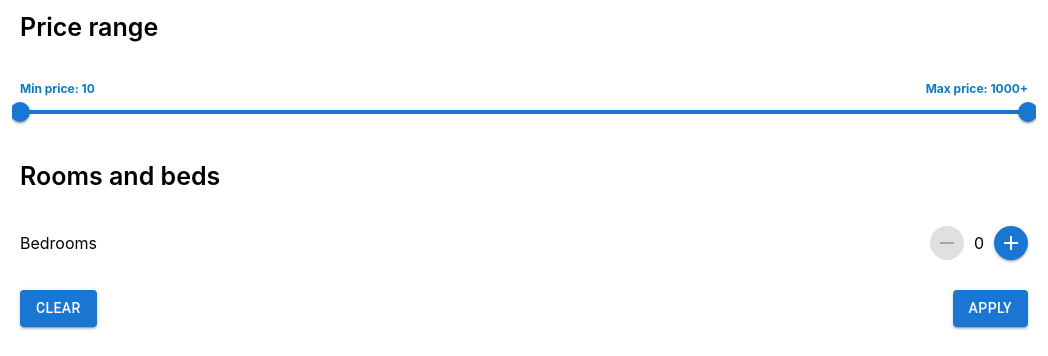
Apartment filter component › has clear settings price range min price input when click button clear
Click the text "Min price: 10". click: (57, 88)
box: [20,81,95,96]
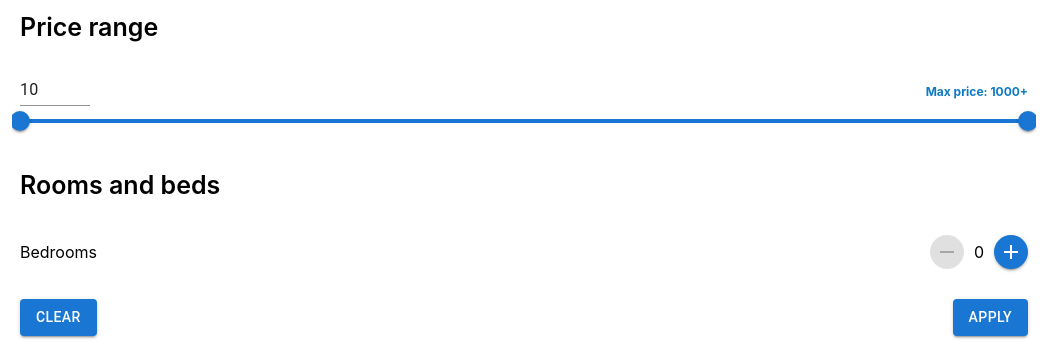
Replace the text in the number field with "500". click: (55, 92)
box: [20,77,90,106]
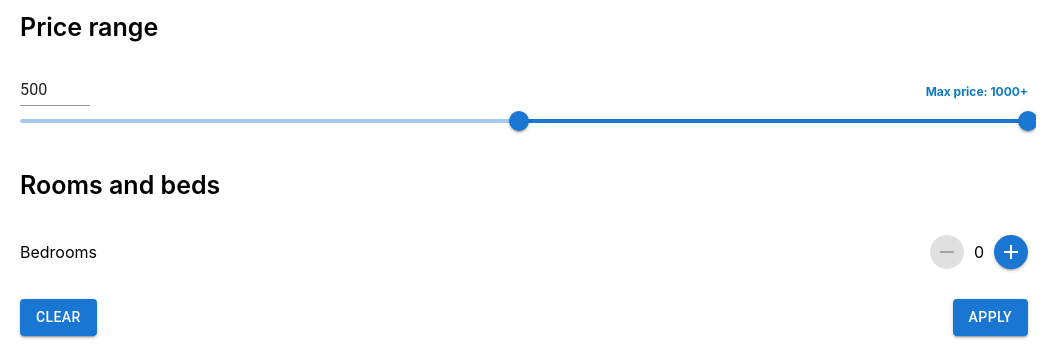
Click the button "Clear". click: (58, 317)
box: [20,299,97,336]
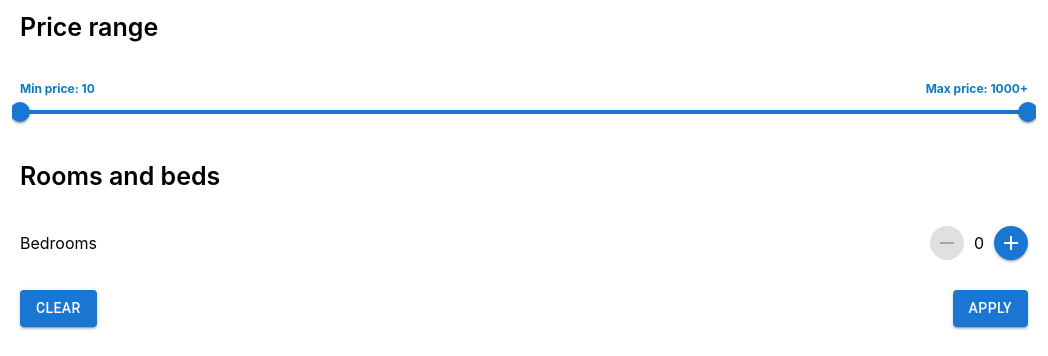
Check: the text "Min price: 10" is shown, box [20,81,95,96]
